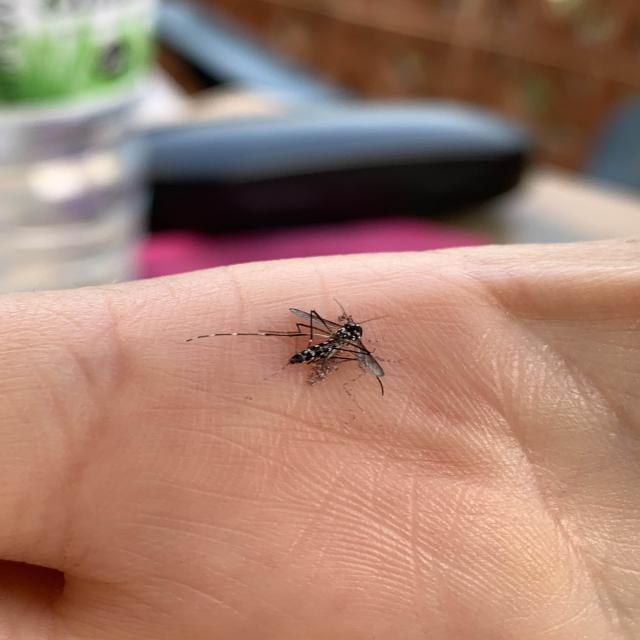albopictus: (188, 292, 400, 398)
